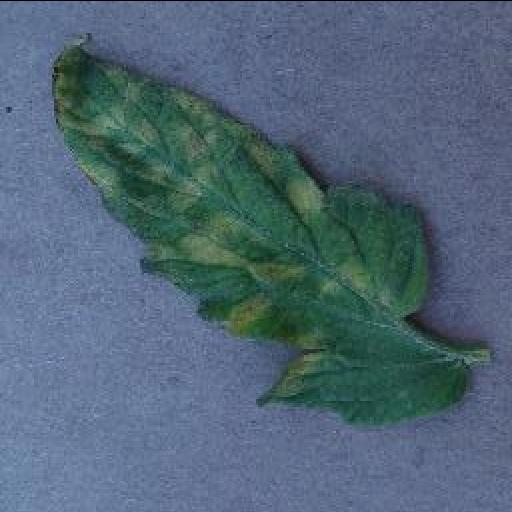disease_tomato: (46, 46, 472, 422)
